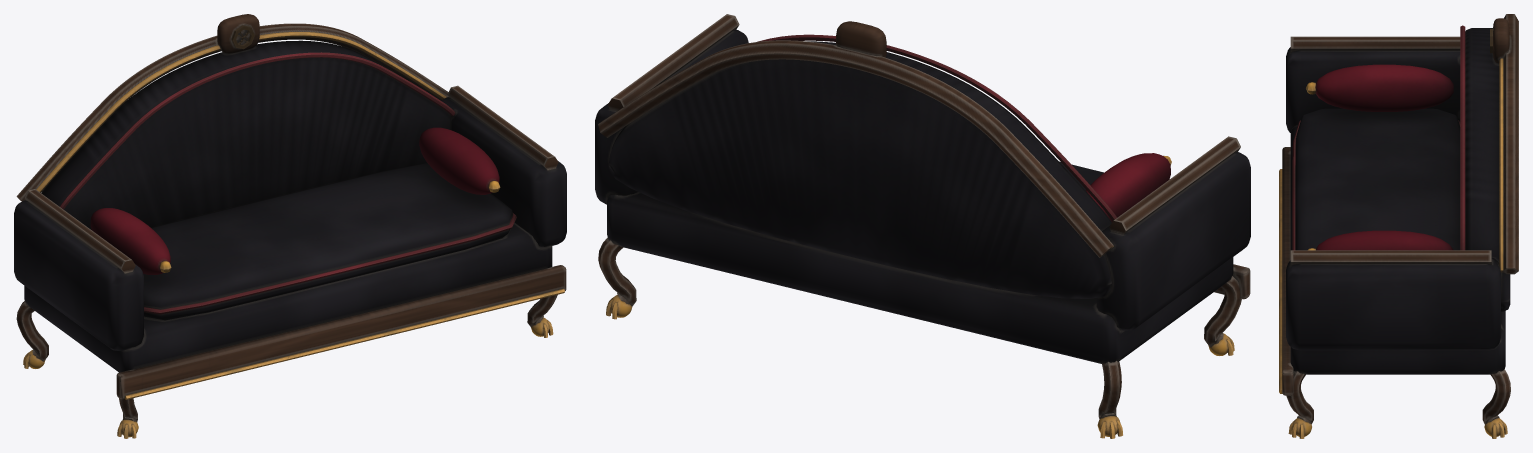
The model's file is CamelbackSofa.fbx.
The picture shows the model from 3 angles, left to right: view 1: azimuth 30°, elevation 25°; view 2: azimuth 150°, elevation 25°; view 3: azimuth 270°, elevation 25°; orthographic projection. The views are drawn at different scales.
Visible parts, largest first — view 1: CamelbackSofa; view 2: CamelbackSofa; view 3: CamelbackSofa.
Part boxes in pixels (x1,y1,x2,y2): CamelbackSofa: [14, 14, 566, 438]; CamelbackSofa: [595, 14, 1250, 438]; CamelbackSofa: [1279, 14, 1518, 438].
Size of the model in its own units: 585 by 364 by 257.
